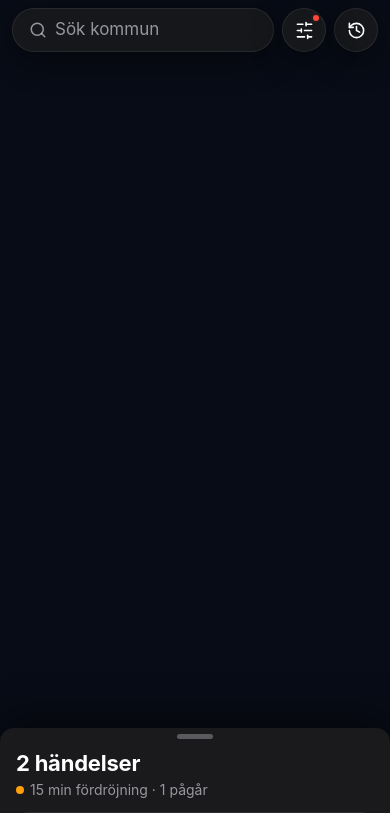
it: the app's map from 1.3 › has the events in a sheet, opened with a tap on its header
Expected: the heading "2 händelser" is shown, [16, 750, 140, 776]
Expected: the text "15 min fördröjning · 1 pågår" is shown, [16, 779, 208, 800]
Step 1. Press the mouse on the button with aria-label "Visa händelserna" → (114, 766), box [16, 734, 213, 798]
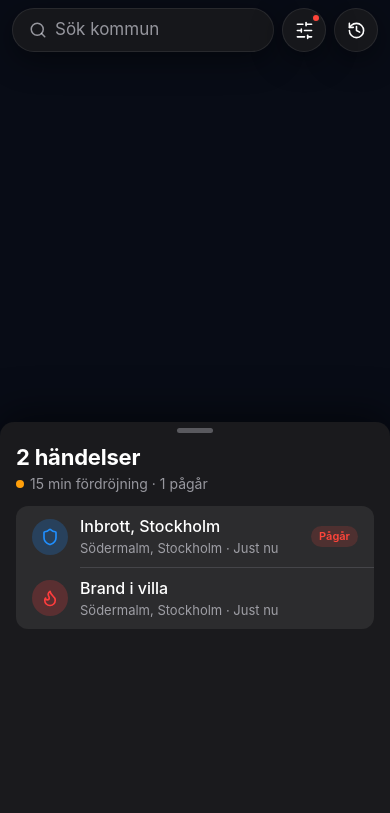
Expected: the button with aria-label "Dölj händelserna" is expanded, [16, 428, 213, 492]
Step 2. Click the button "Inbrott, Stockholm Södermalm, Stockholm · Just nu Pågår" → click(195, 536), box [16, 506, 374, 567]
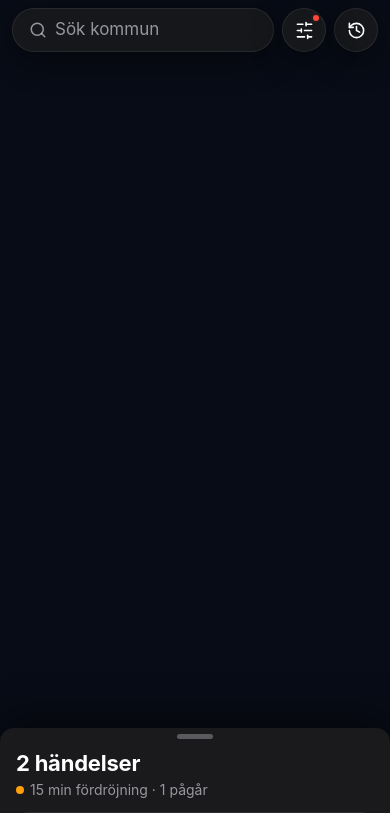
Expected: the button with aria-label "Visa händelserna" is shown, [16, 734, 213, 798]
